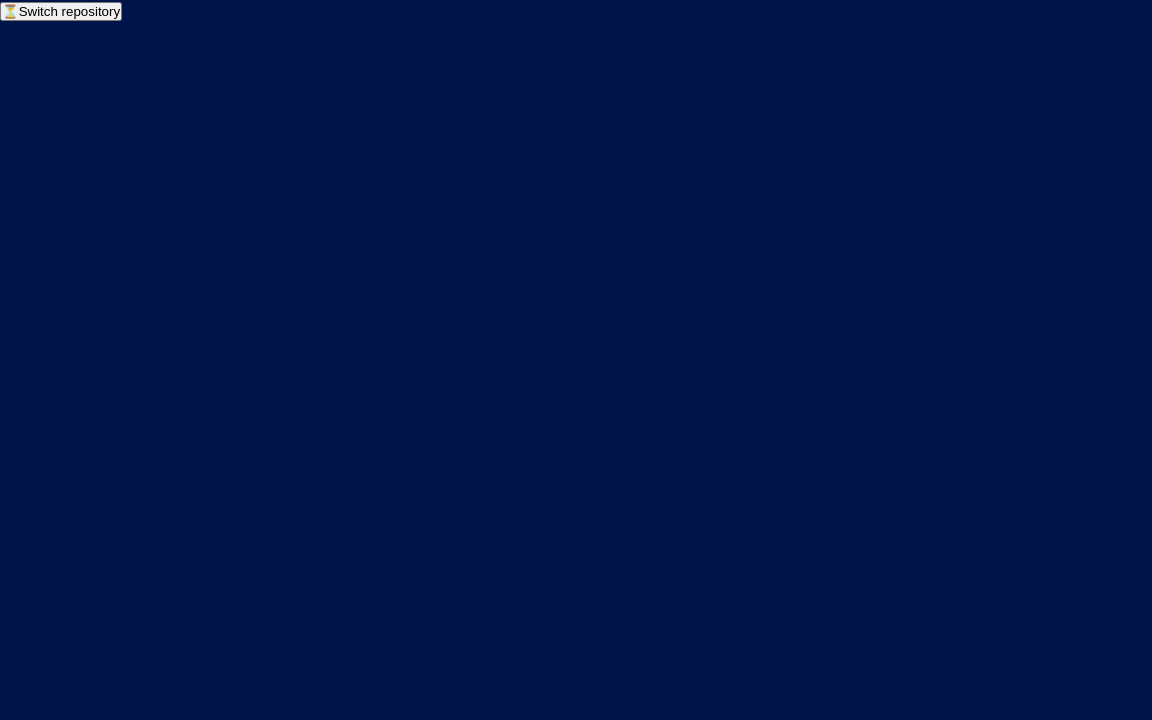
Repo switcher — locked state (analysis not ready) › shows the blocked popup when switcher button clicked while not ready
Click the button with test id "switcher-btn". click: x=61, y=12
box: x1=0 y1=2 x2=122 y2=21
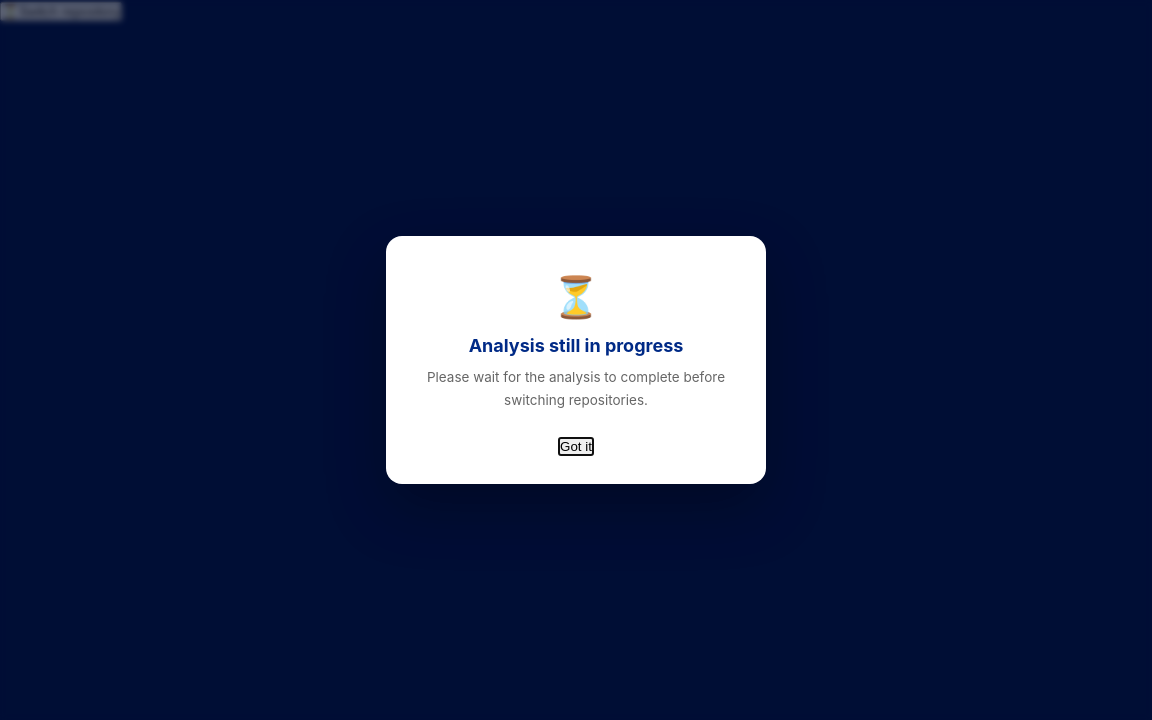
Result: the dialog is shown
Result: the heading "Analysis still in progress" is shown at x1=469 y1=335 x2=683 y2=356
Result: the text "Please wait for the analysis to complete" is shown at x1=427 y1=369 x2=725 y2=408
